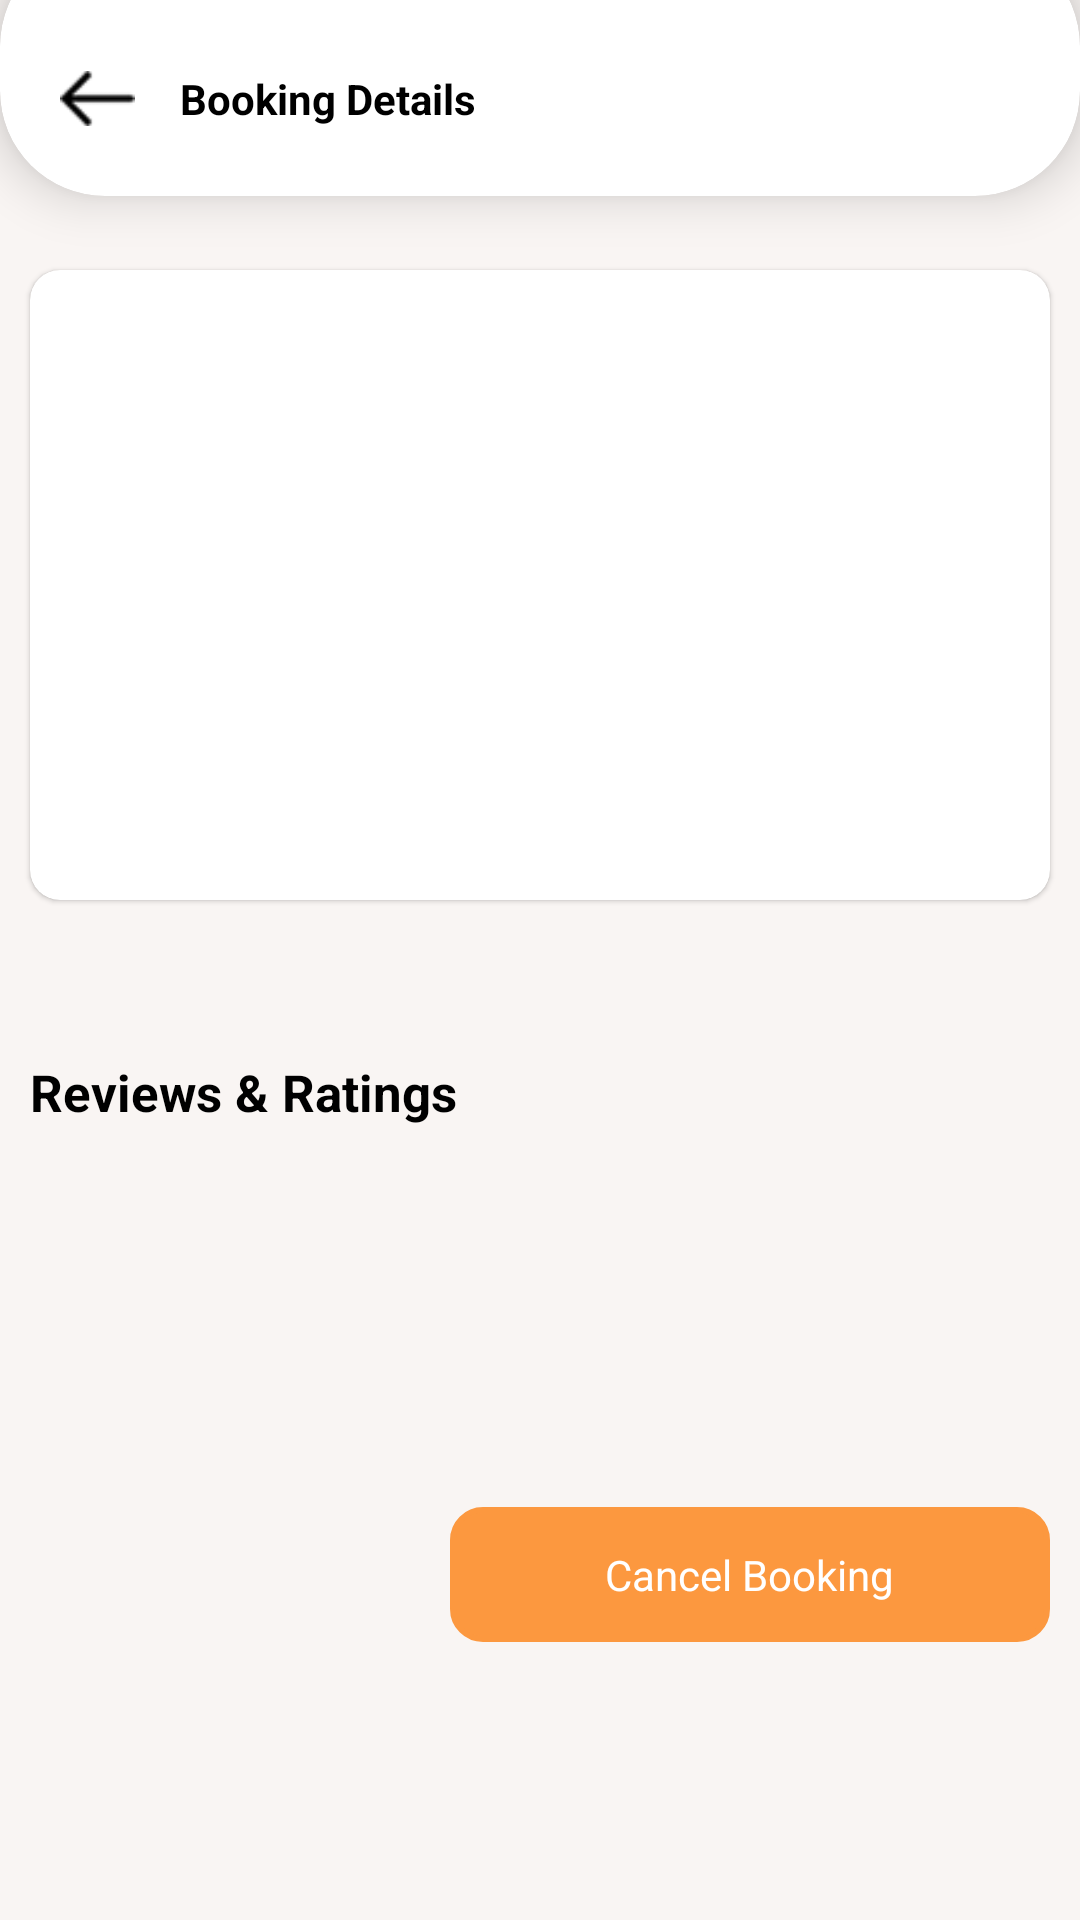

Icon click points for this 1080×1920 phone screenshot, format [x,y]:
back: [97,98]
